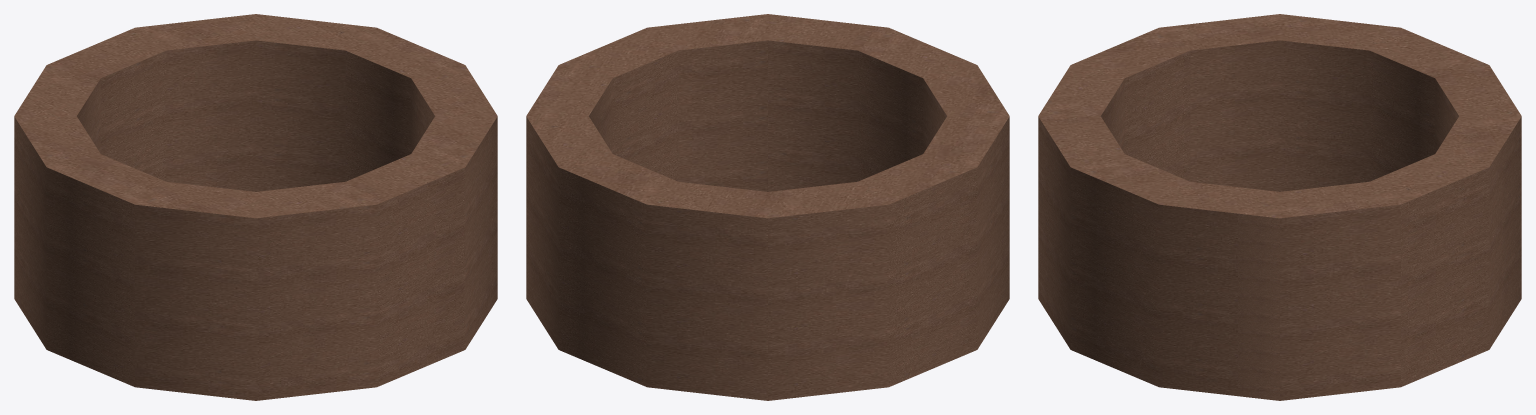
Rendered from adhesive_tape.glb.
3 views of the same model, side by side, from view 1: azimuth 30°, elevation 25°; view 2: azimuth 150°, elevation 25°; view 3: azimuth 270°, elevation 25° (orthographic).
Parts seen in each view (by area): view 1: adhesive_tape; view 2: adhesive_tape; view 3: adhesive_tape.
Part boxes in pixels (<box>): adhesive_tape: <box>14,14,497,400</box>; adhesive_tape: <box>526,14,1009,400</box>; adhesive_tape: <box>1038,14,1521,400</box>.
Size of the model in its own units: 0.06 by 0.025 by 0.06.
2 materials, 2 textured.
